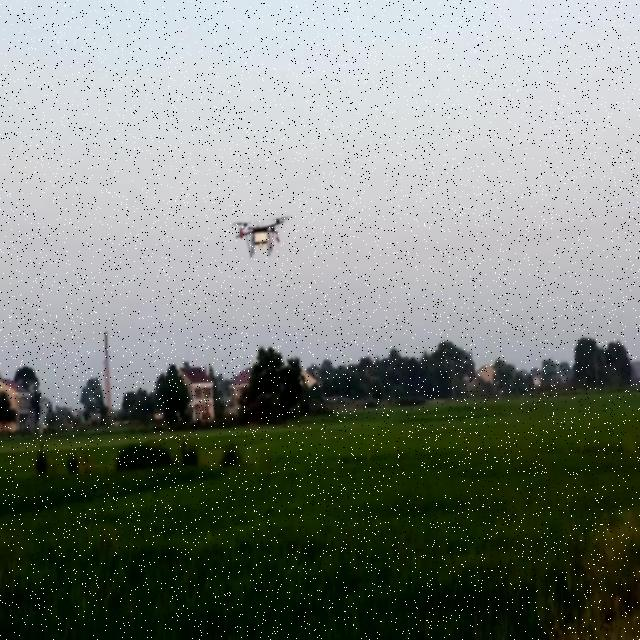UAV: (232, 215, 292, 259)
